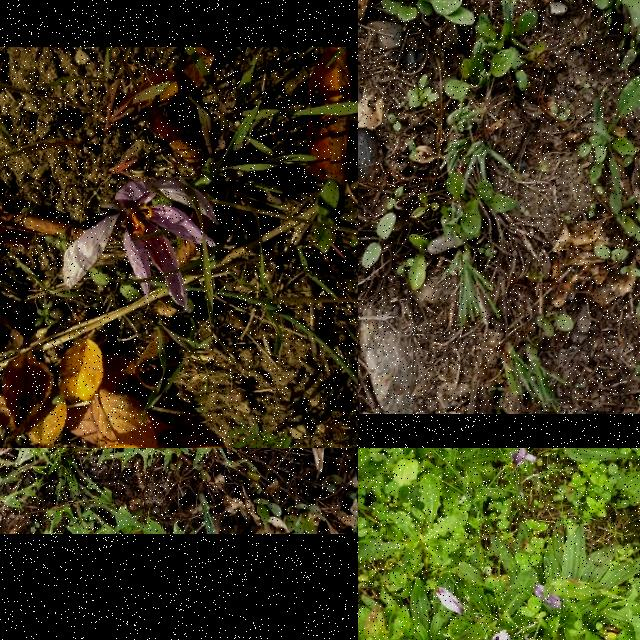flower: (64, 178, 220, 312), (435, 586, 465, 616), (489, 631, 510, 640)
